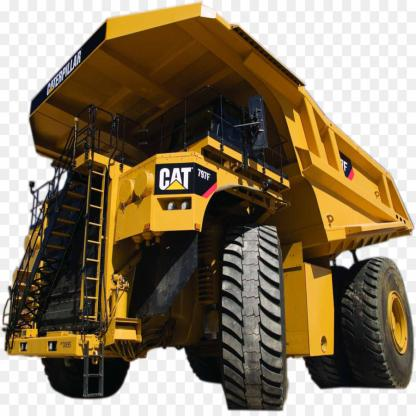dump_truck: (23, 6, 416, 406)
